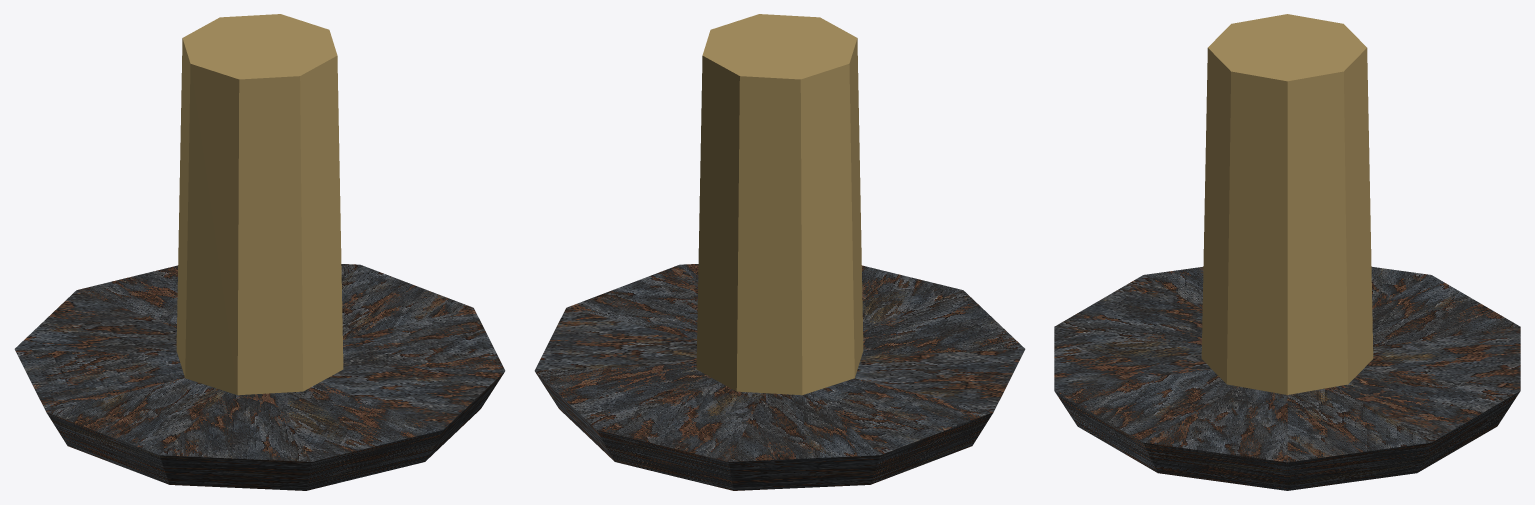
Rendered from C13_Vela.obj.
3 renders of one model, left to right at view 1: azimuth 30°, elevation 25°; view 2: azimuth 150°, elevation 25°; view 3: azimuth 270°, elevation 25°, orthographic.
Parts seen in each view (by area): view 1: C13_Vela; view 2: C13_Vela; view 3: C13_Vela.
Part boxes in pixels (x1,y1,x2,y2): C13_Vela: [14, 14, 505, 490]; C13_Vela: [534, 14, 1025, 490]; C13_Vela: [1054, 14, 1520, 490].
Size of the model in its own units: 0.4 by 0.315 by 0.3804.
2 materials, 1 textured.
